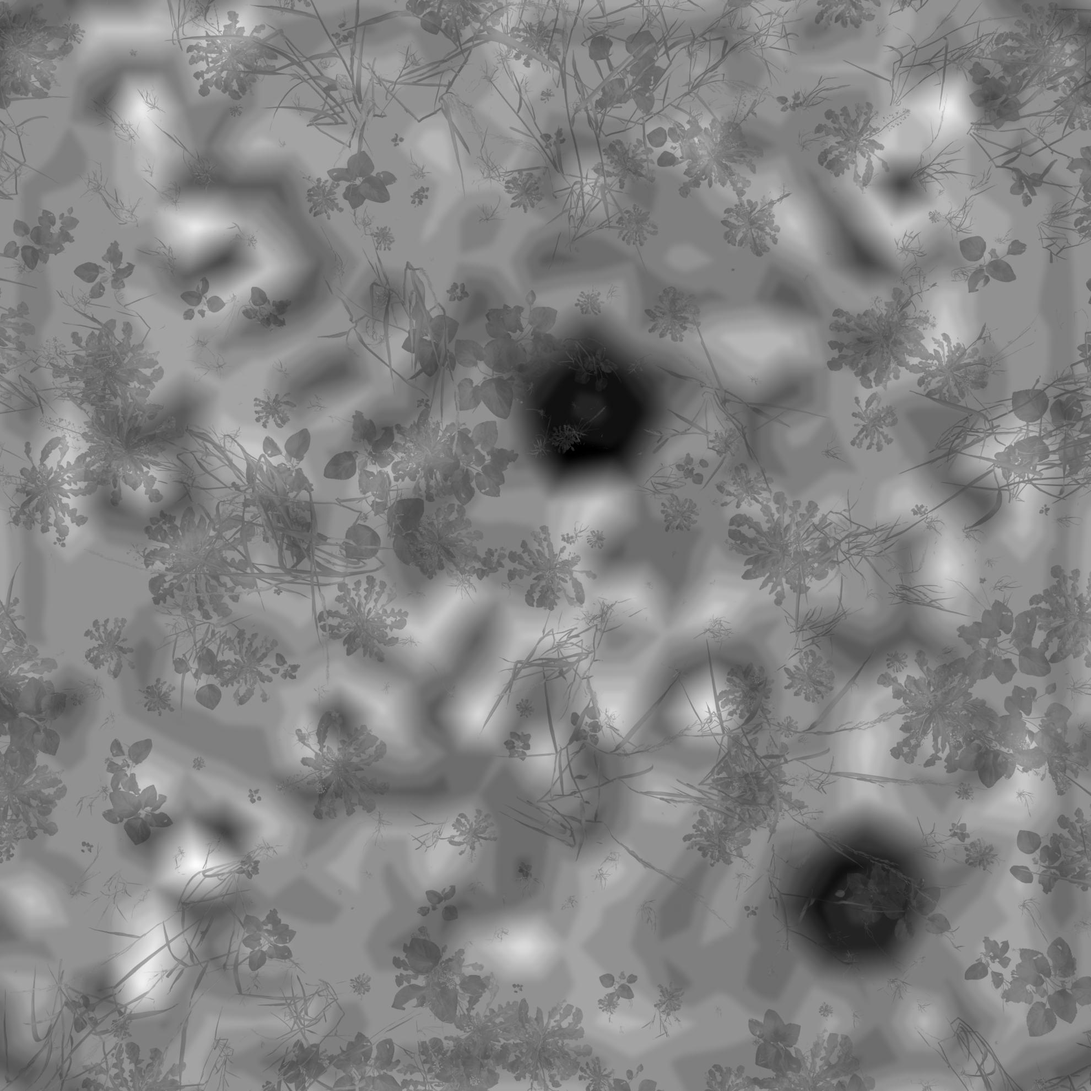landmine: (511, 333, 658, 491), (793, 833, 922, 969)
